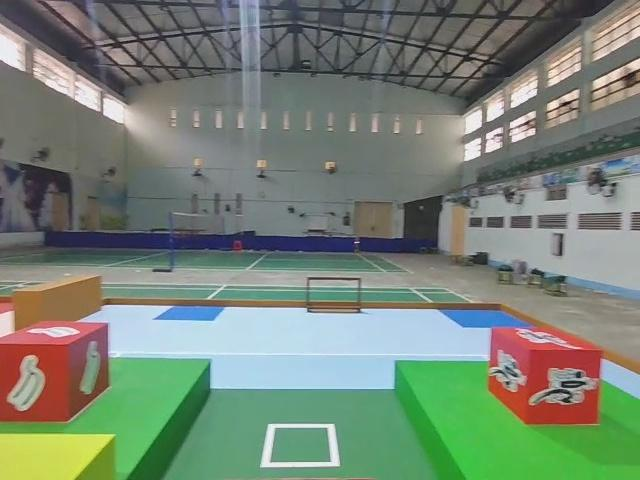R1: (484, 321, 604, 427)
R2 Real: (0, 317, 112, 424)
